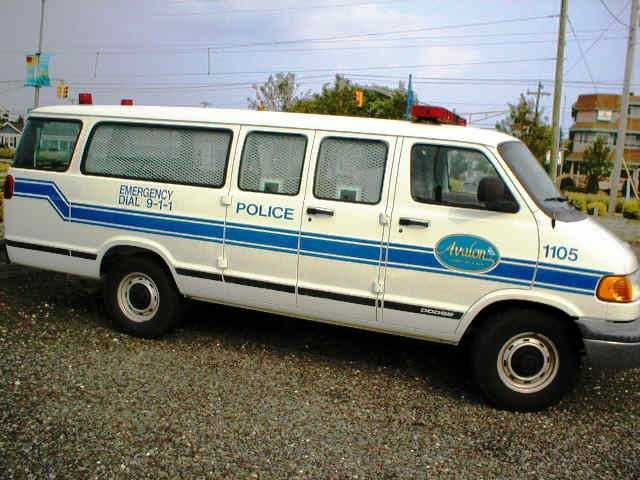Police Van: (0, 92, 638, 413)
